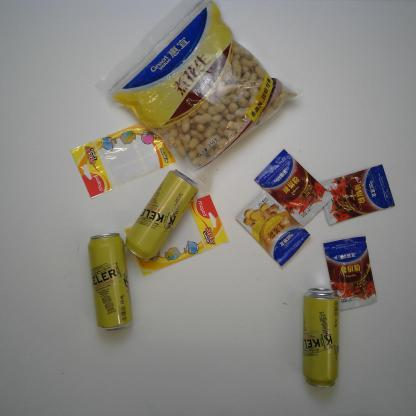Alcohol: (121, 165, 203, 264), (86, 229, 135, 334), (300, 283, 344, 390)
Dried Food: (91, 0, 307, 200)
Seasoner: (252, 147, 335, 229), (233, 187, 313, 269), (318, 162, 397, 228), (320, 235, 379, 312)
Stationery: (120, 191, 232, 278), (68, 120, 178, 202)
